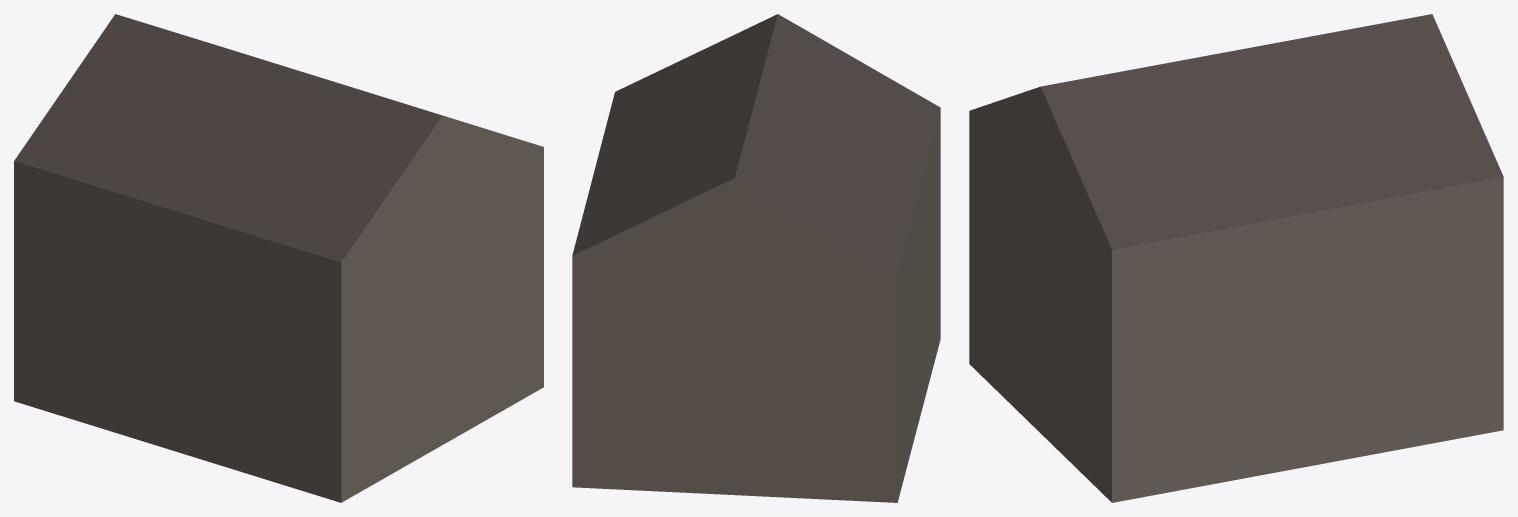
3 views of the same model, side by side, from view 1: azimuth 30°, elevation 25°; view 2: azimuth 150°, elevation 25°; view 3: azimuth 270°, elevation 25° (orthographic). The views are drawn at different scales.
Visible parts, largest first — view 1: HP-w1200742924; view 2: HP-w1200742924; view 3: HP-w1200742924.
Boxes of the visible parts, x1,y1,x2,y2 form: HP-w1200742924: (14, 14, 543, 502); HP-w1200742924: (572, 14, 940, 502); HP-w1200742924: (969, 14, 1503, 502).
Size of the model in its own units: 10.76 by 8.23 by 11.49.
